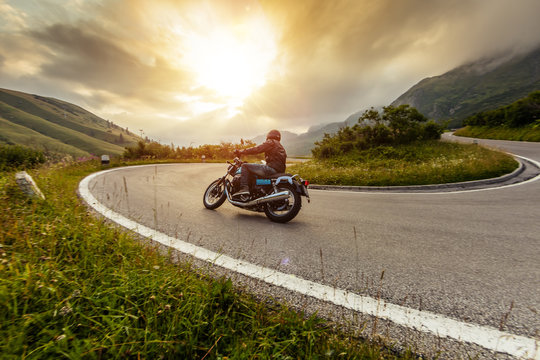Motorcycle: (201, 159, 315, 226)
